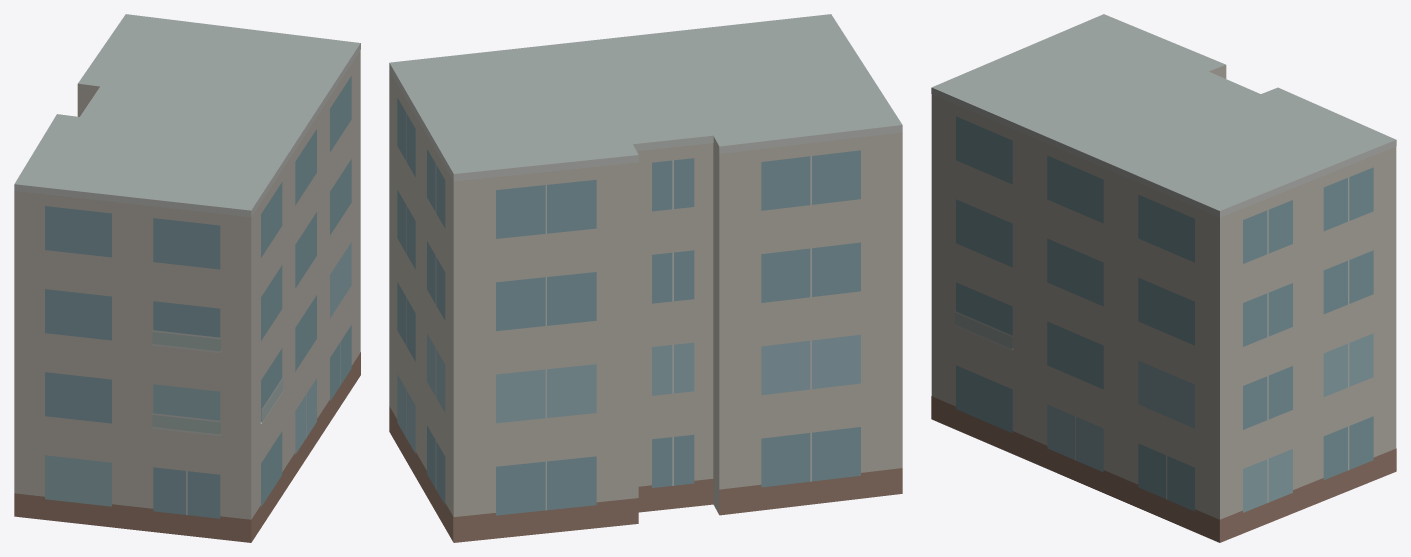
Rendered from survey-upis-32922116.glb.
3 views of the same model, side by side, from view 1: azimuth 30°, elevation 25°; view 2: azimuth 150°, elevation 25°; view 3: azimuth 270°, elevation 25° (orthographic). The views are drawn at different scales.
Visible parts, largest first — view 1: survey-upis-32922116.tmp; view 2: survey-upis-32922116.tmp; view 3: survey-upis-32922116.tmp.
Part boxes in pixels (x1=…): survey-upis-32922116.tmp: x1=14, y1=14, x2=360, y2=542; survey-upis-32922116.tmp: x1=389, y1=14, x2=902, y2=542; survey-upis-32922116.tmp: x1=931, y1=14, x2=1396, y2=542.
Size of the model in its own units: 15.55 by 12.2 by 15.5.
